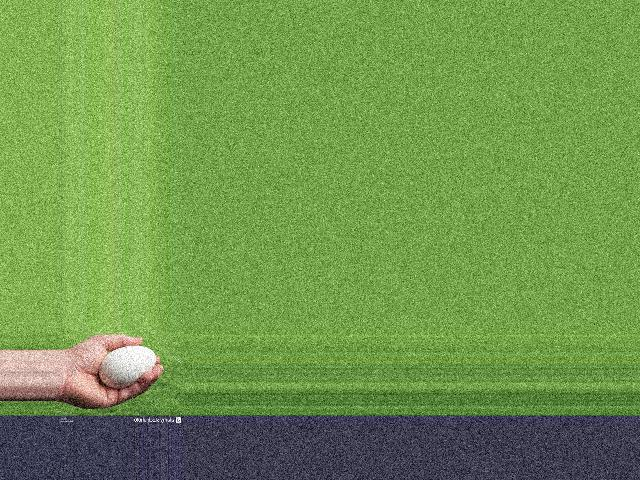egg: (97, 345, 155, 389)
